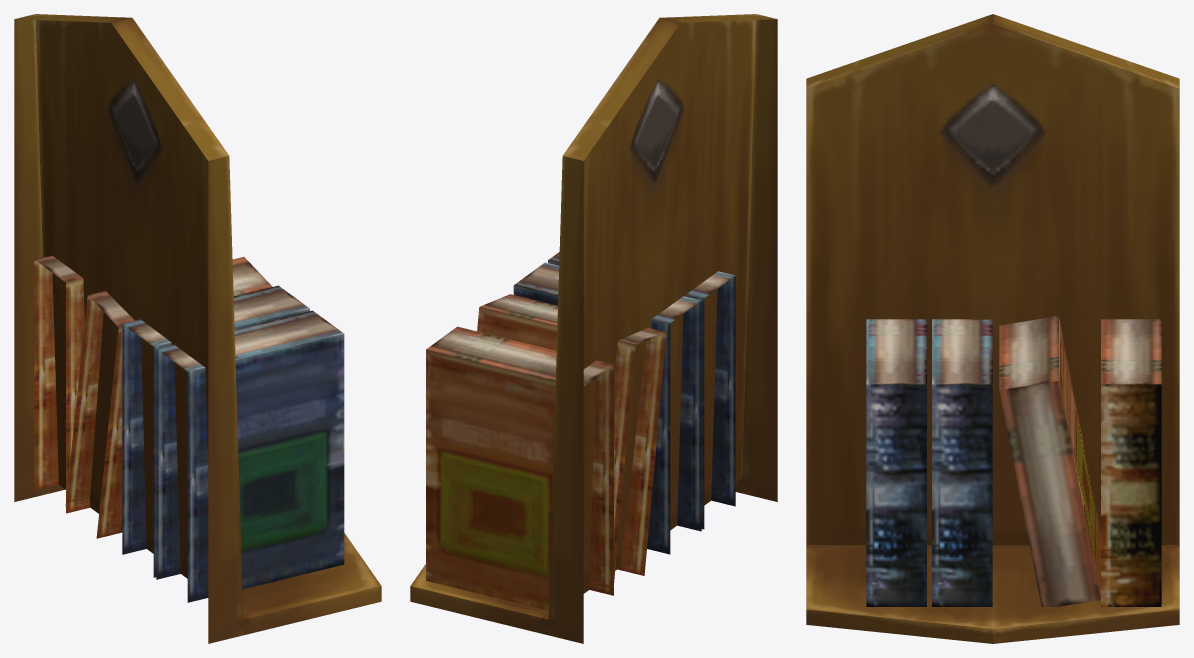
File: ShuJia01.FBX
3 renders of one model, left to right at view 1: azimuth 30°, elevation 25°; view 2: azimuth 150°, elevation 25°; view 3: azimuth 270°, elevation 25°, orthographic. The views are drawn at different scales.
Visible parts, largest first — view 1: ShuJia01; view 2: ShuJia01; view 3: ShuJia01.
Part boxes in pixels (x1=…): ShuJia01: x1=14, y1=14, x2=381, y2=643; ShuJia01: x1=410, y1=14, x2=777, y2=643; ShuJia01: x1=806, y1=14, x2=1179, y2=643.
Size of the model in its own units: 37.32 by 91.69 by 58.55.
